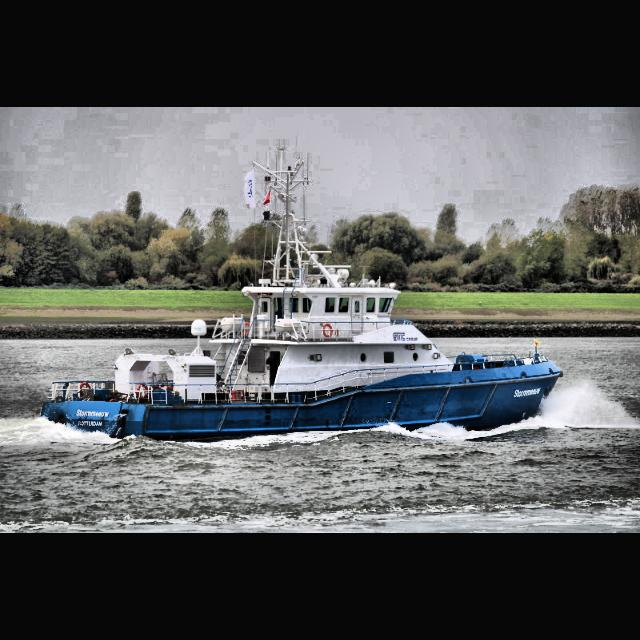patrol_vessel: (37, 219, 570, 446)
